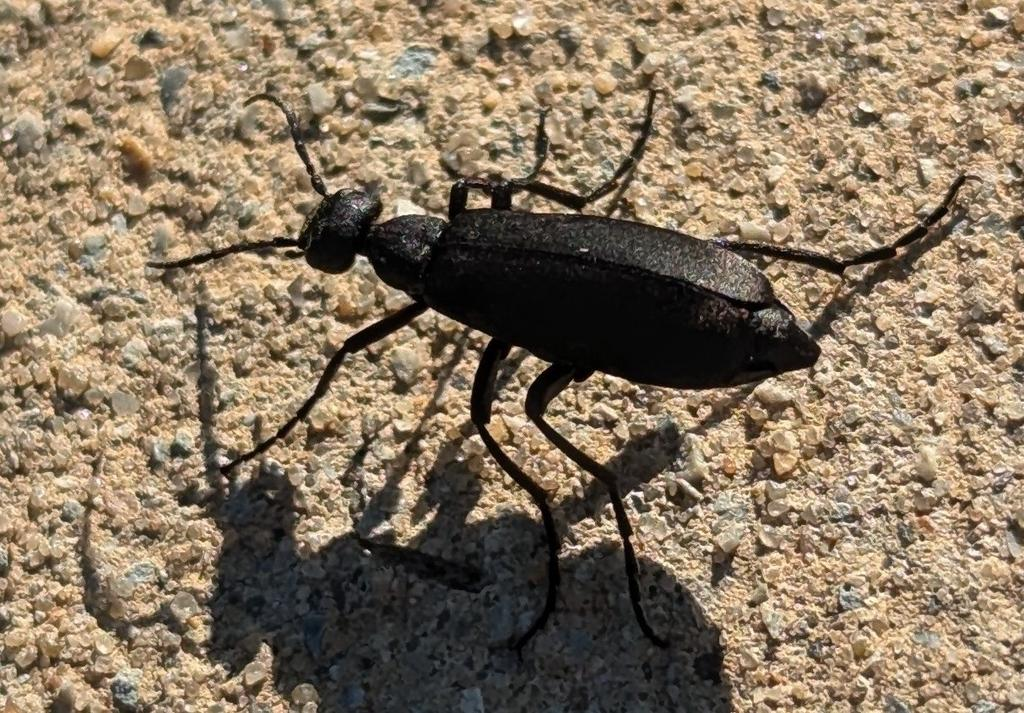blister_beetle: (91, 0, 1024, 713)
